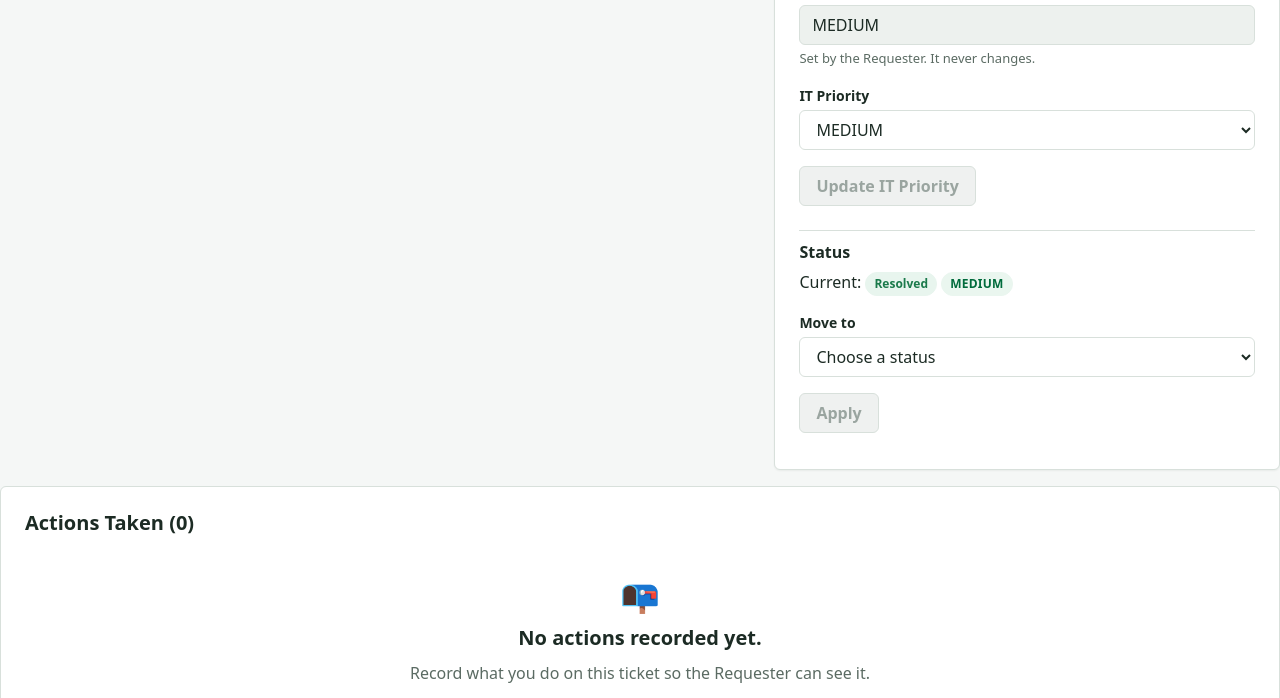
Scenario: UI-17 status offers only permittedTransitions (AC-25) › keeps Resolve and Close unavailable until the ticket has an owner (BR-35)
The width and height of the screenshot is (1280, 698).
(page scrolled)
Select "Closed" in the dropdown labelled "Move to": (1027, 357) [799,337,1255,377]
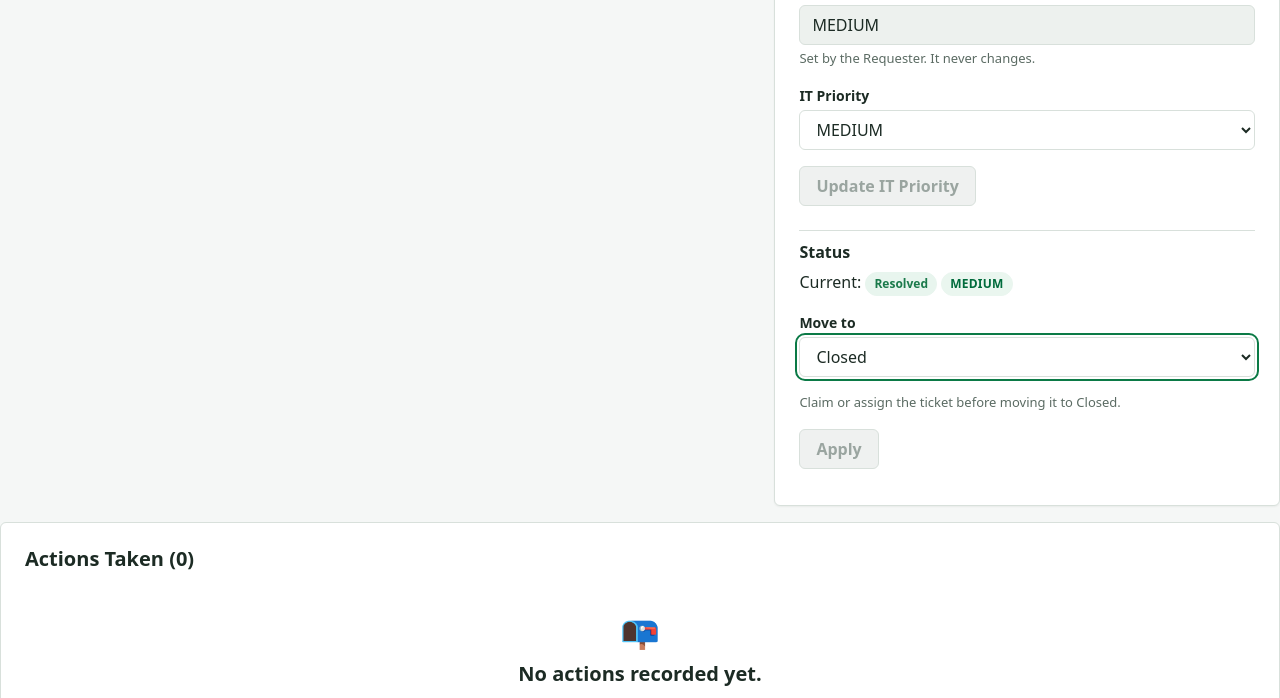
Expected: the button "Apply" is disabled, [799,429,879,469]
Expected: the text "Claim or assign the ticket before moving it to Closed." is shown, [799,393,1121,411]
